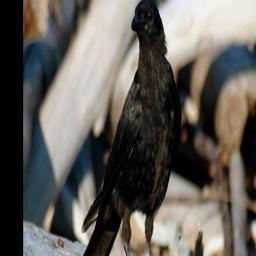Crow: (79, 0, 183, 256)
